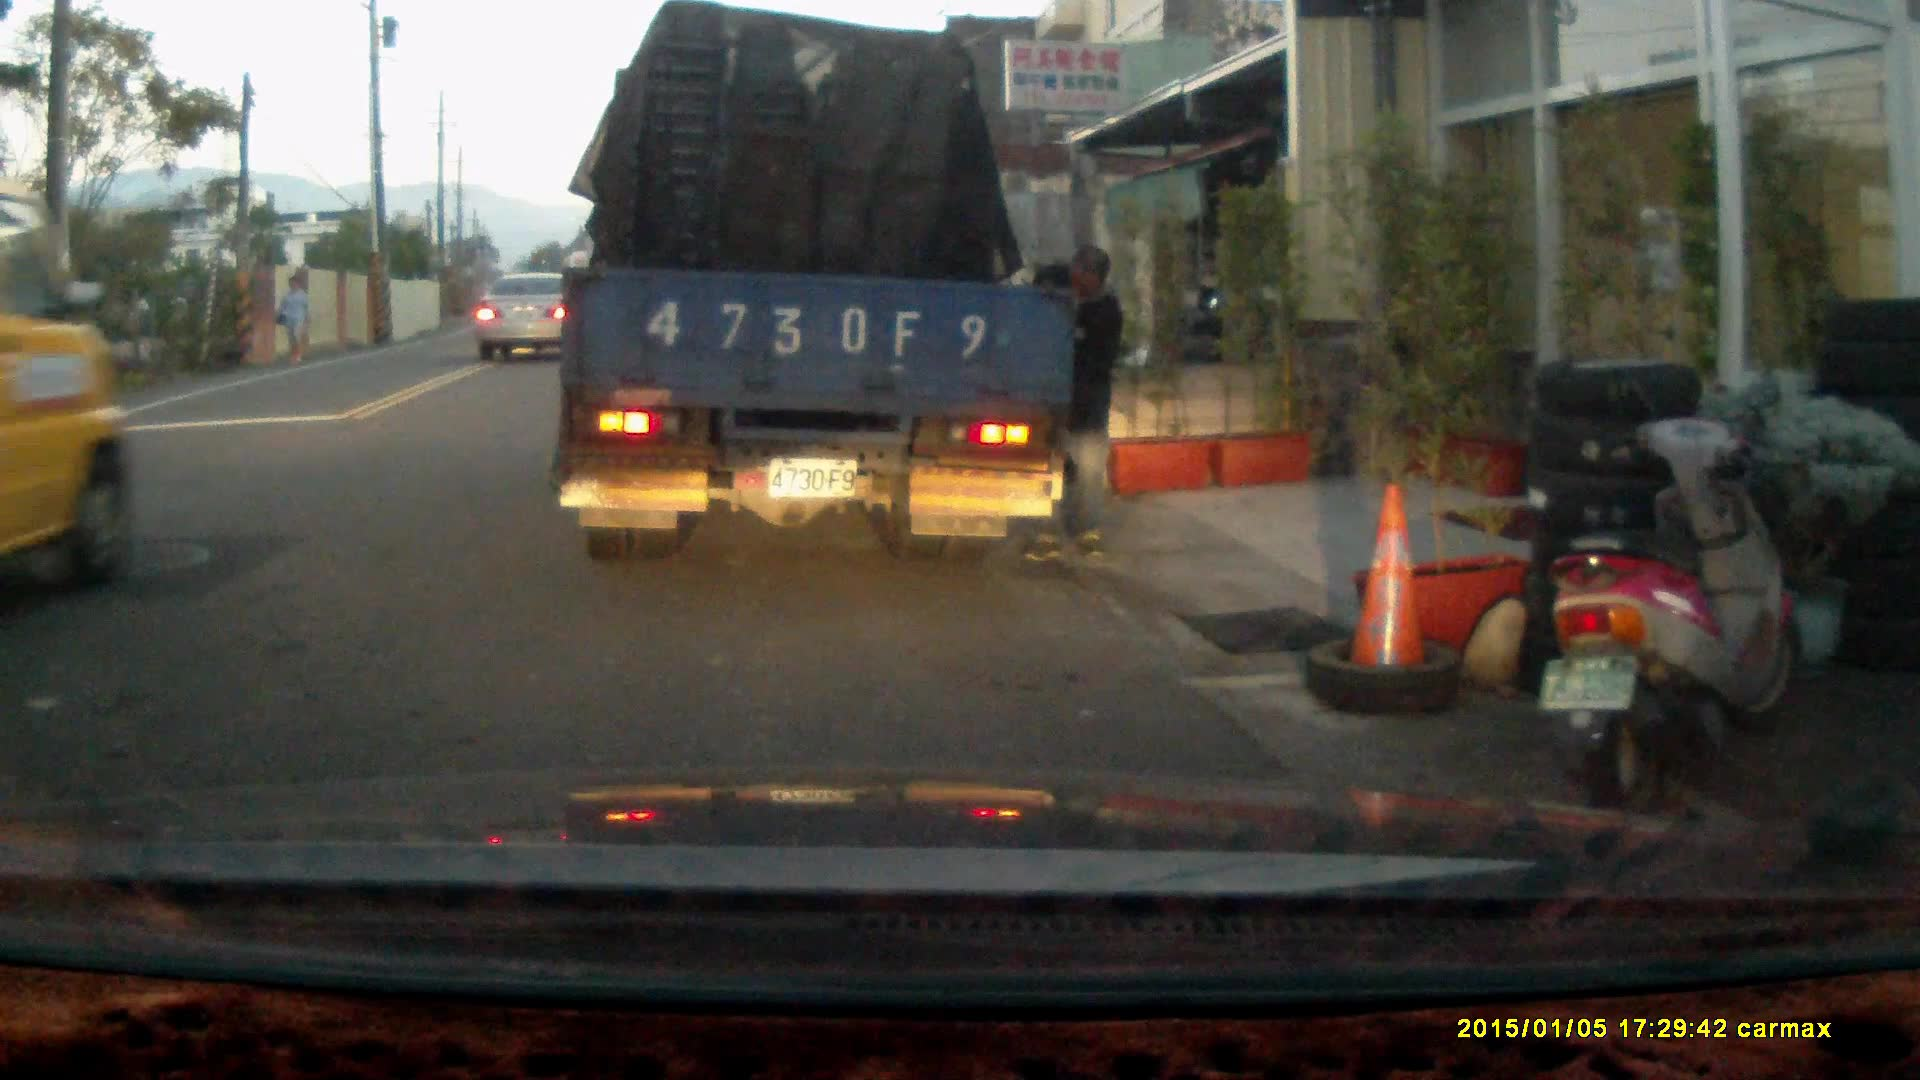pedestrian: (1008, 241, 1124, 561), (270, 272, 311, 366)
vehicle: (556, 25, 1067, 555), (1, 181, 132, 595), (478, 270, 586, 357)
